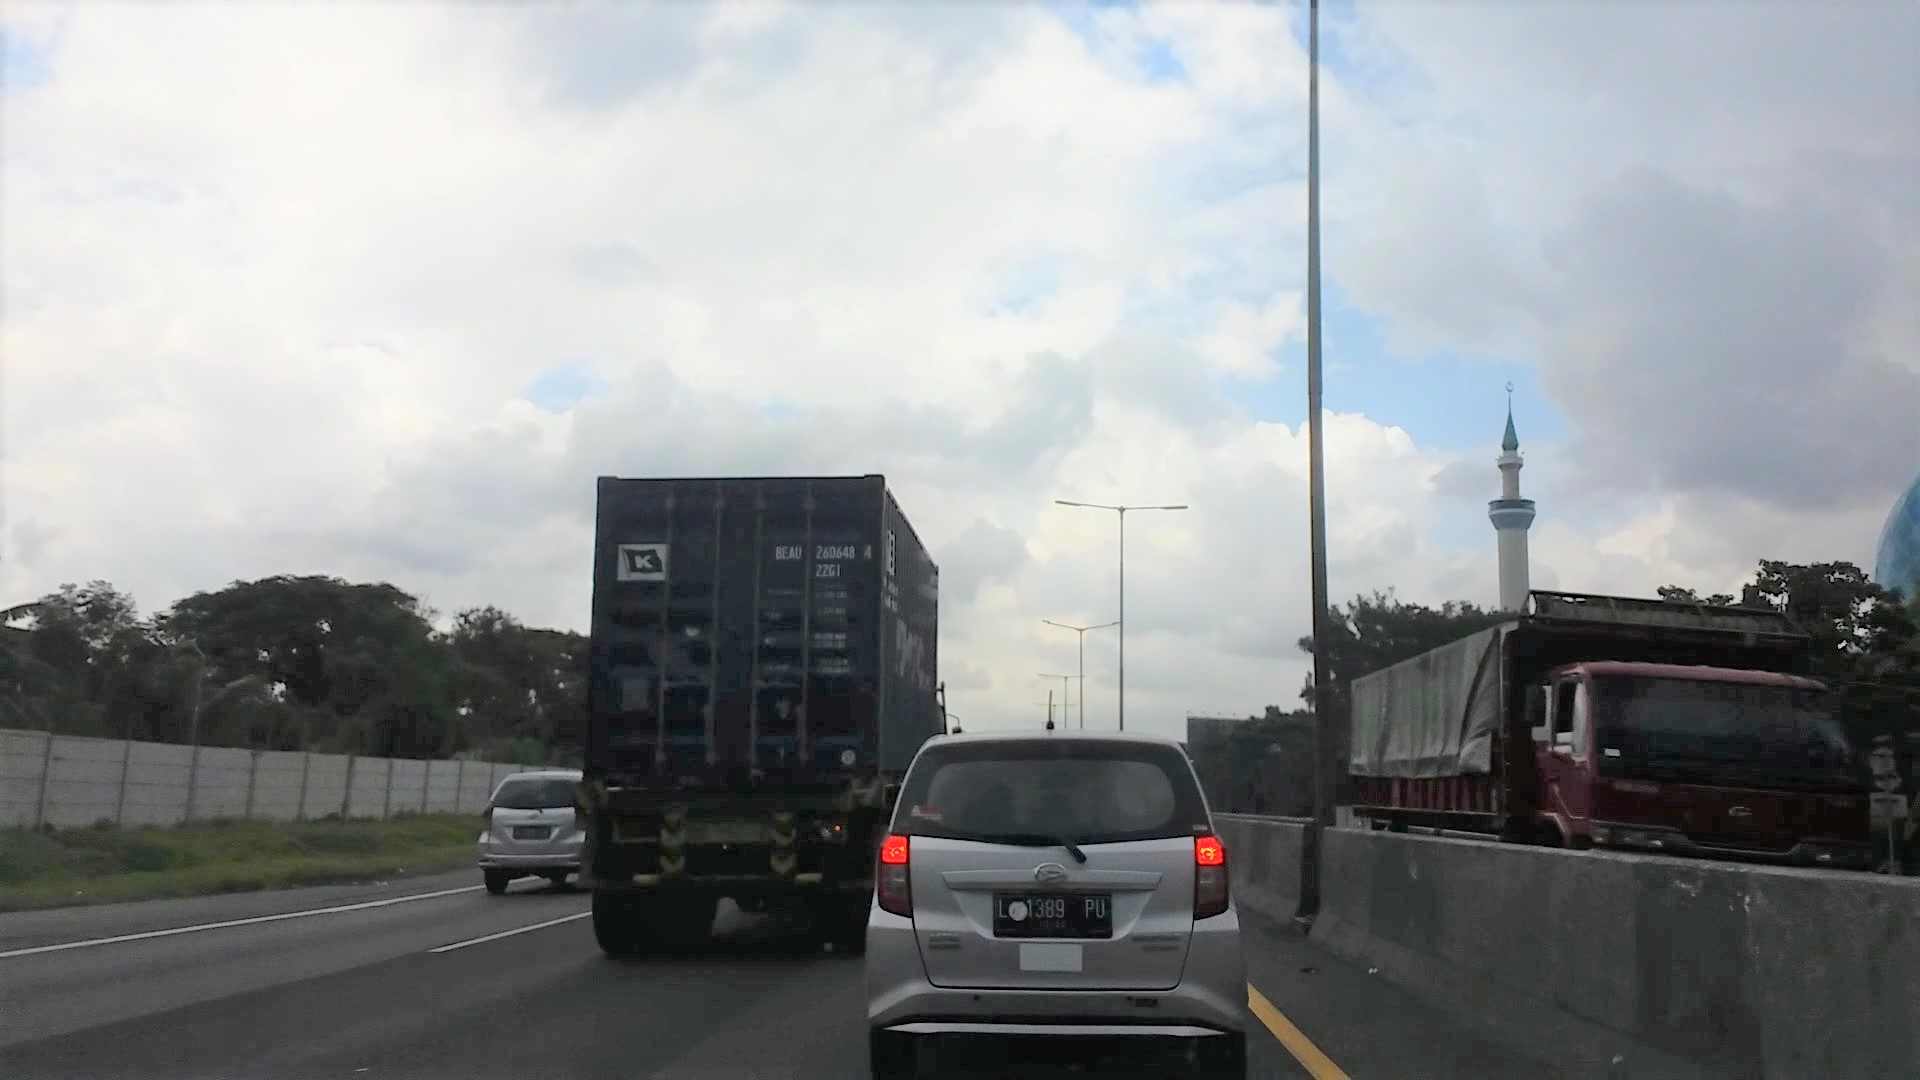plate_positive: (994, 891, 1113, 939)
